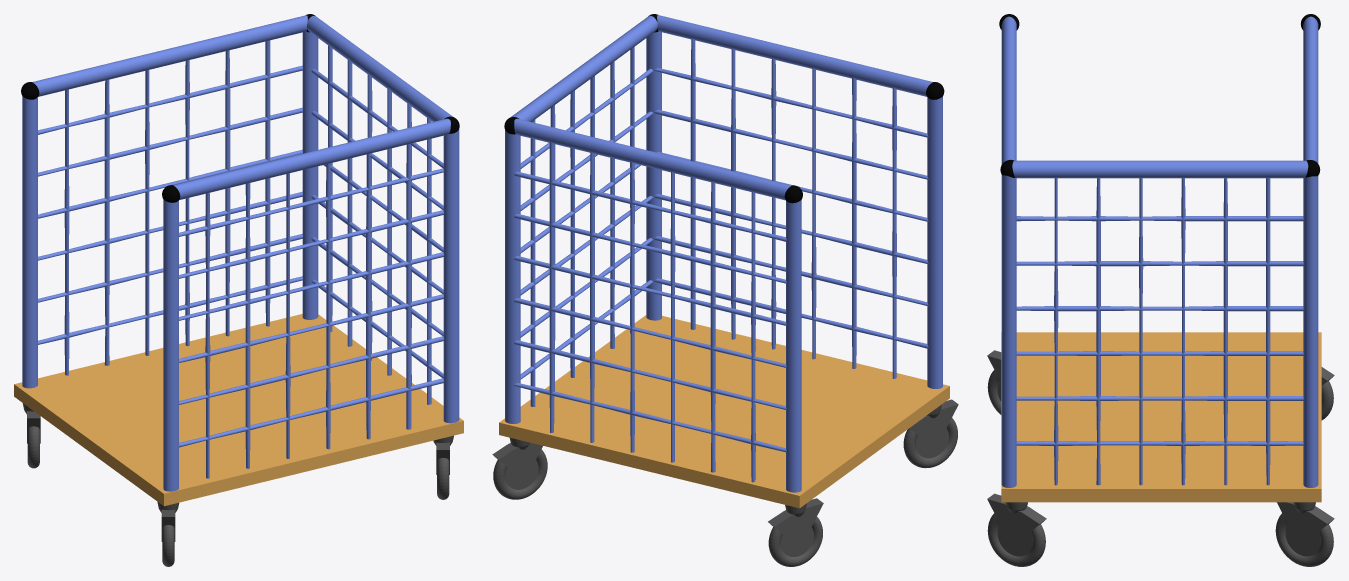
Rendered from PackageTrolley.fbx.
The picture shows the model from 3 angles, left to right: view 1: azimuth 30°, elevation 25°; view 2: azimuth 150°, elevation 25°; view 3: azimuth 270°, elevation 25°; orthographic projection. The views are drawn at different scales.
Parts seen in each view (by area): view 1: Cube, Cube.002, Plane, Plane.001, Plane.002, Cube.003, Cube.005, Cube.001; view 2: Cube, Cube.002, Plane.001, Plane, Plane.002, Cube.001, Cube.004, Cube.003; view 3: Cube, Cube.002, Plane.002, Cube.005, Cube.004, Cube.003, Cube.001.
Part boxes in pixels (<box>): Cube: <box>14,314,463,506</box>; Cube.002: <box>22,15,459,491</box>; Plane: <box>179,144,443,478</box>; Plane.001: <box>38,40,302,375</box>; Plane.002: <box>311,45,443,404</box>; Cube.003: <box>157,502,179,566</box>; Cube.005: <box>433,435,453,499</box>; Cube.001: <box>22,403,40,468</box>; Cube: <box>499,315,949,508</box>; Cube.002: <box>505,15,942,492</box>; Plane.001: <box>514,142,786,482</box>; Plane: <box>654,38,928,378</box>; Plane.002: <box>520,47,653,406</box>; Cube.001: <box>768,498,823,566</box>; Cube.004: <box>492,438,547,499</box>; Cube.003: <box>903,399,958,468</box>; Cube: <box>1001,332,1321,502</box>; Cube.002: <box>1001,16,1318,487</box>; Plane.002: <box>1016,178,1303,485</box>; Cube.005: <box>987,493,1046,566</box>; Cube.004: <box>1275,502,1334,566</box>; Cube.003: <box>987,350,1001,414</box>; Cube.001: <box>1321,367,1334,420</box>.
Bounding box in the file's own units: 272 × 320 × 248.
